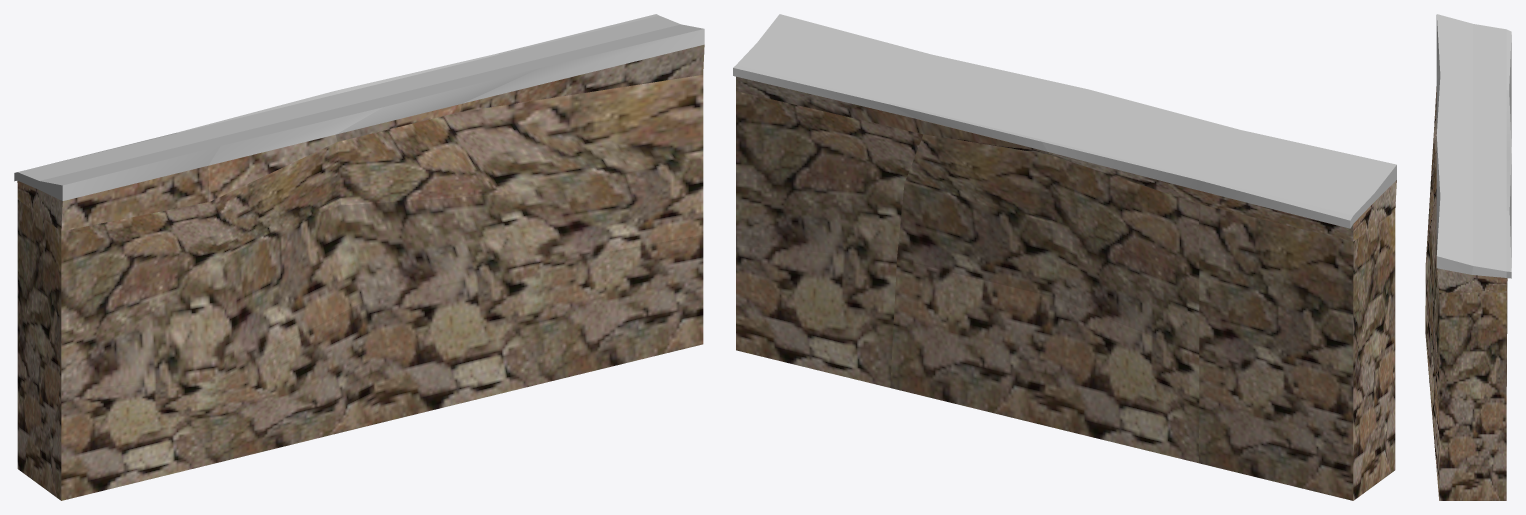
File: StoneWall_Panel_TileCoping_Model.fbx
3 views of the same model, side by side, from view 1: azimuth 30°, elevation 25°; view 2: azimuth 150°, elevation 25°; view 3: azimuth 270°, elevation 25° (orthographic). The views are drawn at different scales.
Parts seen in each view (by area): view 1: Body; view 2: Body; view 3: Body.
Boxes of the visible parts, x1=… form: Body: x1=14, y1=14, x2=704, y2=500; Body: x1=733, y1=14, x2=1396, y2=500; Body: x1=1425, y1=14, x2=1511, y2=500.
Bounding box in the file's own units: 200 × 93.98 × 30.
